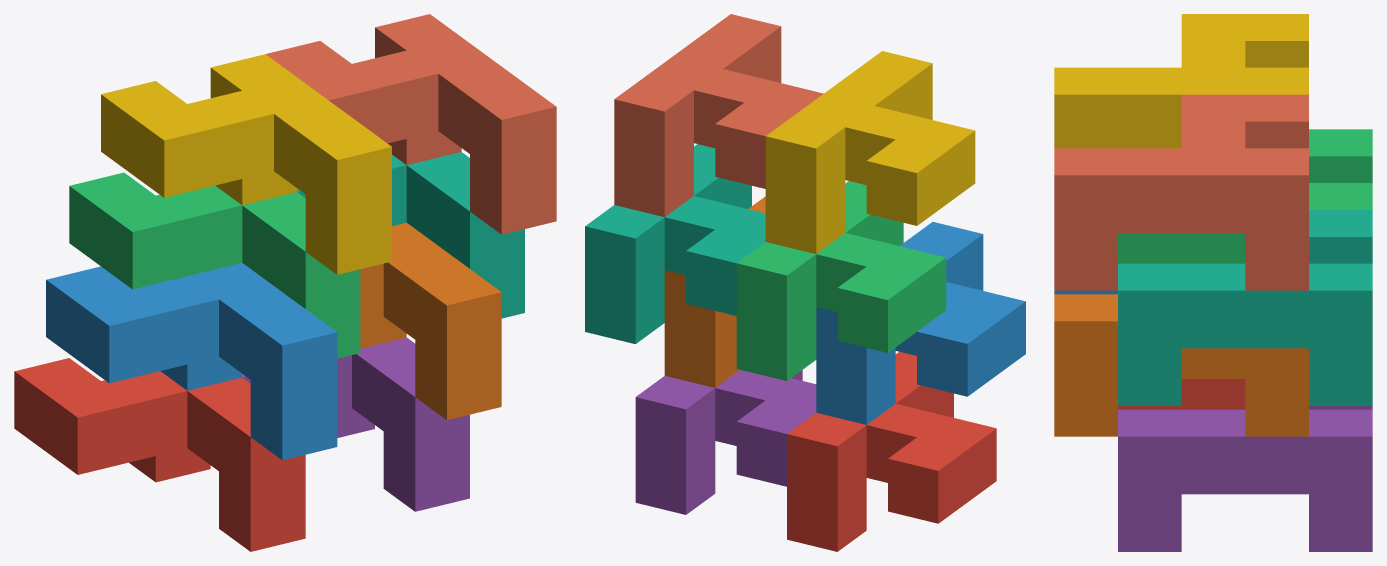
The model's file is tiling.obj.
The picture shows the model from 3 angles, left to right: view 1: azimuth 30°, elevation 25°; view 2: azimuth 150°, elevation 25°; view 3: azimuth 270°, elevation 25°; orthographic projection. The views are drawn at different scales.
Parts seen in each view (by area): view 1: copy_1_domain_4, copy_1_domain_2, copy_1_domain_8, copy_1_domain_1, copy_1_domain_3, copy_1_domain_6, copy_1_domain_5, copy_1_domain_7; view 2: copy_1_domain_4, copy_1_domain_8, copy_1_domain_3, copy_1_domain_1, copy_1_domain_7, copy_1_domain_2, copy_1_domain_5, copy_1_domain_6; view 3: copy_1_domain_8, copy_1_domain_7, copy_1_domain_5, copy_1_domain_4, copy_1_domain_6, copy_1_domain_3, copy_1_domain_1.
Boxes of the visible parts, left/top/right/bottom form: copy_1_domain_4: left=101, top=54, right=391, bottom=274; copy_1_domain_2: left=46, top=263, right=337, bottom=460; copy_1_domain_8: left=265, top=14, right=556, bottom=234; copy_1_domain_1: left=14, top=358, right=305, bottom=551; copy_1_domain_3: left=69, top=172, right=360, bottom=358; copy_1_domain_6: left=360, top=222, right=501, bottom=419; copy_1_domain_5: left=242, top=337, right=469, bottom=511; copy_1_domain_7: left=297, top=152, right=524, bottom=318; copy_1_domain_4: left=765, top=51, right=975, bottom=253; copy_1_domain_8: left=614, top=14, right=823, bottom=217; copy_1_domain_3: left=736, top=181, right=946, bottom=380; copy_1_domain_1: left=787, top=352, right=996, bottom=551; copy_1_domain_7: left=585, top=144, right=765, bottom=343; copy_1_domain_2: left=816, top=222, right=1025, bottom=424; copy_1_domain_5: left=635, top=370, right=816, bottom=514; copy_1_domain_6: left=664, top=196, right=765, bottom=387; copy_1_domain_8: left=1054, top=94, right=1308, bottom=290; copy_1_domain_7: left=1118, top=210, right=1372, bottom=405; copy_1_domain_5: left=1118, top=406, right=1372, bottom=551; copy_1_domain_4: left=1054, top=14, right=1308, bottom=148; copy_1_domain_6: left=1054, top=294, right=1308, bottom=436; copy_1_domain_3: left=1118, top=129, right=1372, bottom=263; copy_1_domain_1: left=1118, top=379, right=1245, bottom=409.
Size of the model in its own units: 7 by 7 by 5.
